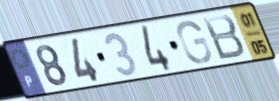3: (103, 30, 138, 78)
4: (140, 23, 174, 74), (70, 35, 101, 85)
8: (35, 43, 70, 87)
B: (200, 12, 248, 62)
G: (175, 19, 213, 65)
